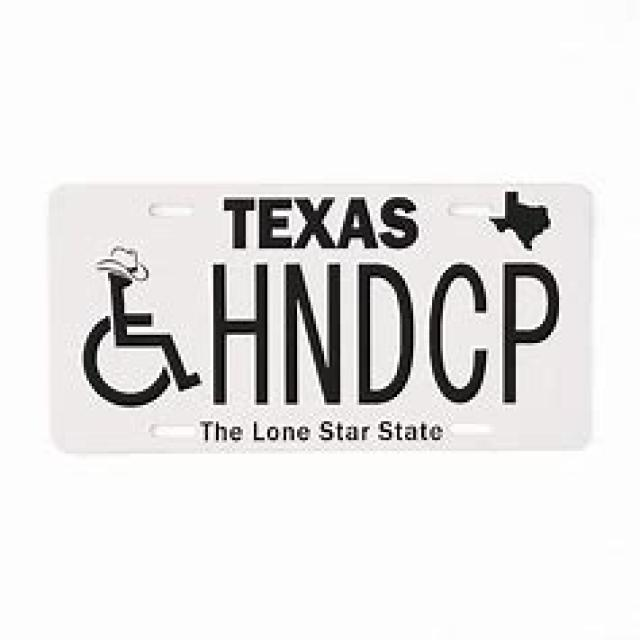car-handicap-placard: (79, 243, 206, 412)
